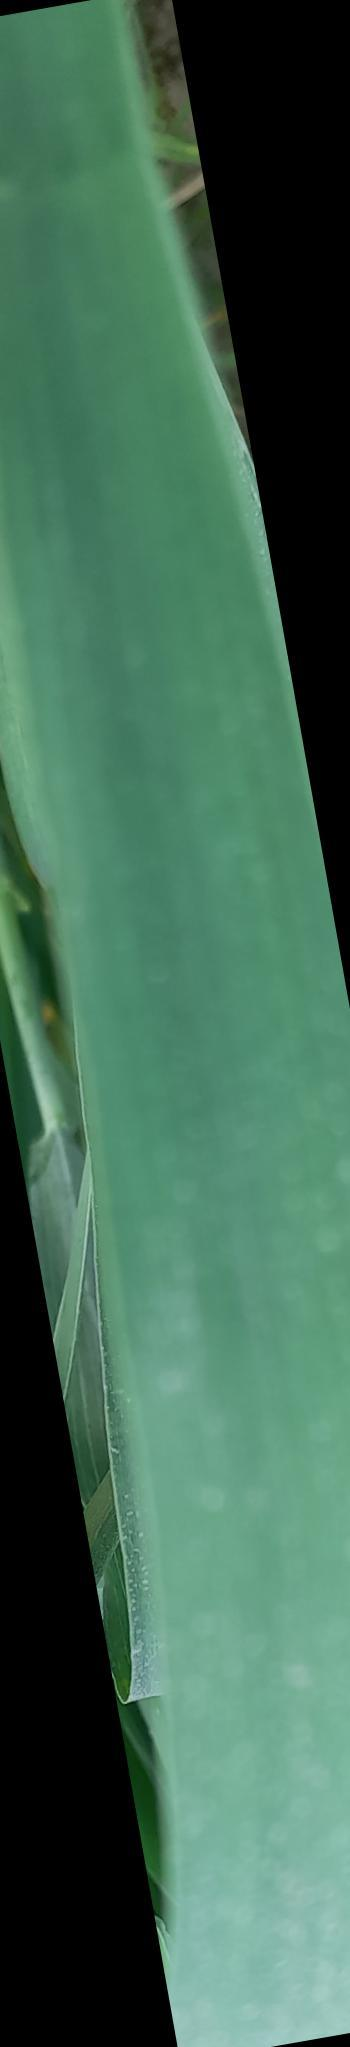Wheat: (24, 499, 244, 1146), (174, 1195, 350, 1995), (14, 84, 145, 431)
